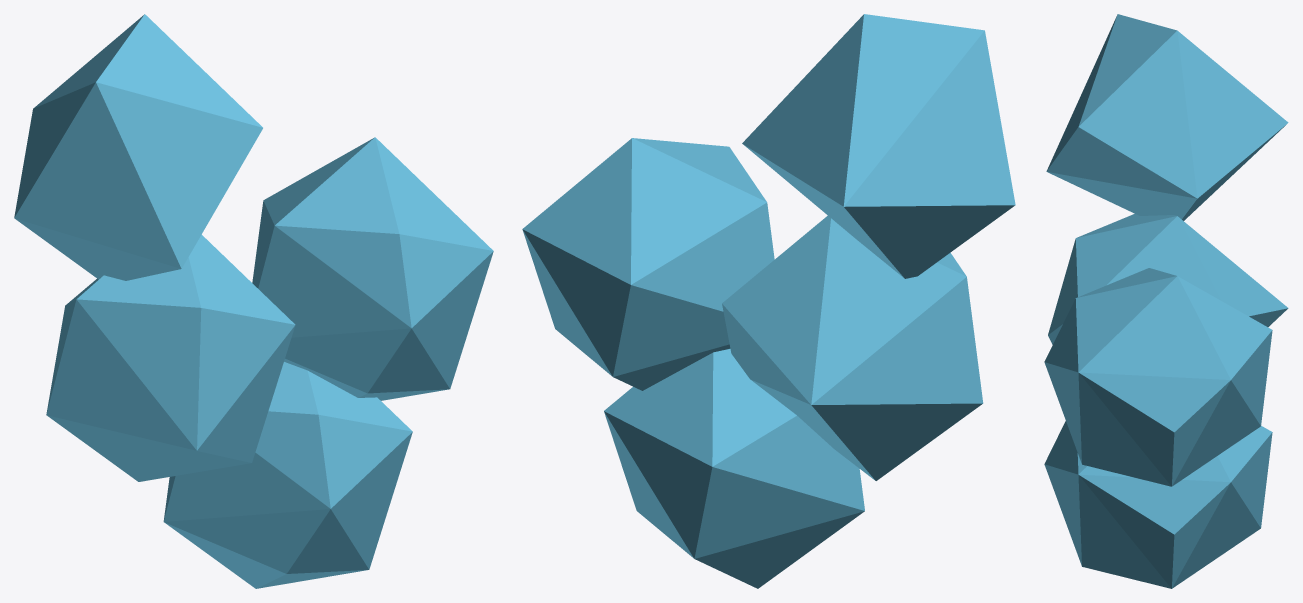
Rendered from Cloud_v08.fbx.
The picture shows the model from 3 angles, left to right: view 1: azimuth 30°, elevation 25°; view 2: azimuth 150°, elevation 25°; view 3: azimuth 270°, elevation 25°; orthographic projection. The views are drawn at different scales.
Parts seen in each view (by area): view 1: Cloud_v08; view 2: Cloud_v08; view 3: Cloud_v08.
Part boxes in pixels (x1=…): Cloud_v08: x1=14, y1=14, x2=493, y2=588; Cloud_v08: x1=522, y1=14, x2=1015, y2=588; Cloud_v08: x1=1044, y1=14, x2=1288, y2=588.
Bounding box in the file's own units: 26.77 × 32.41 × 14.22.
1 material, 1 textured.
